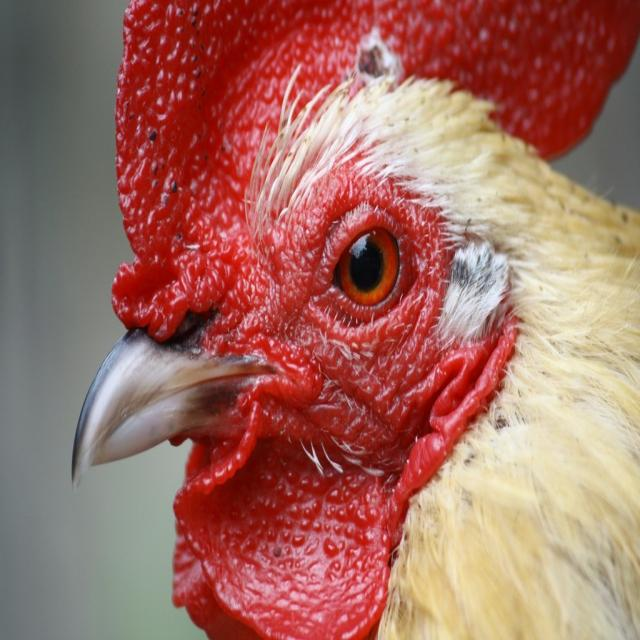Chicken: (71, 0, 640, 640)
